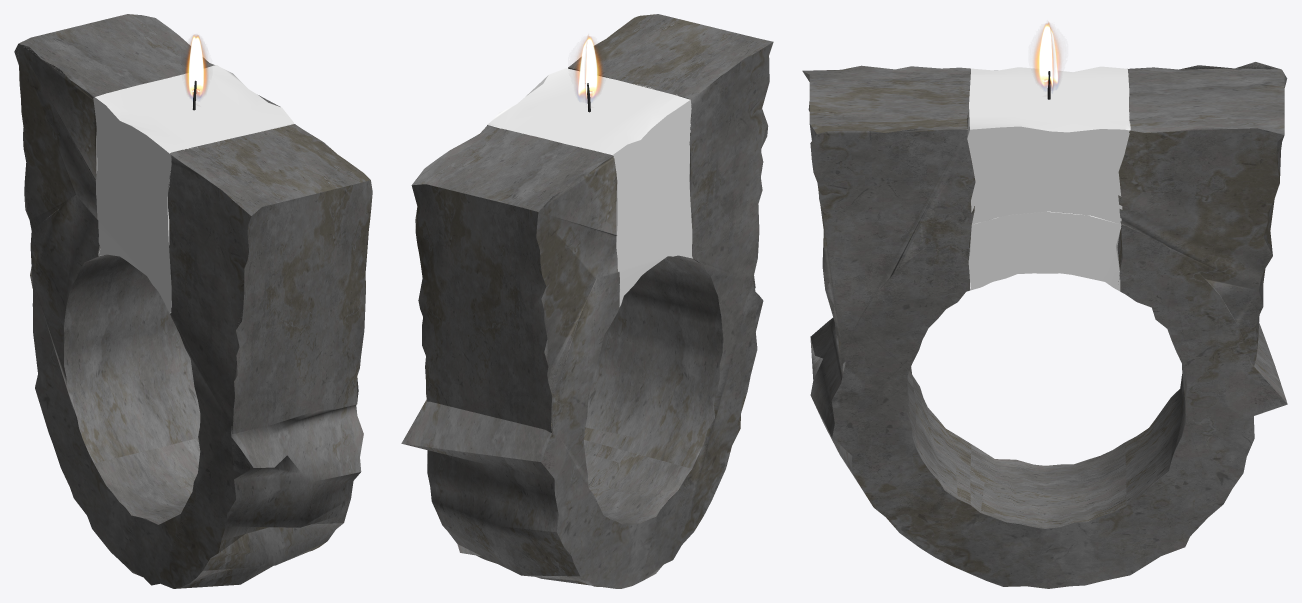
File: BAGUE_4.glb
3 views of the same model, side by side, from view 1: azimuth 30°, elevation 25°; view 2: azimuth 150°, elevation 25°; view 3: azimuth 270°, elevation 25° (orthographic). The views are drawn at different scales.
Visible parts, largest first — view 1: Cube.001, Cube.002, candles-01.003; view 2: Cube.001, Cube.002, candles-01.003; view 3: Cube.001, Cube.002, candles-01.003.
Boxes of the visible parts, box(x1,y1,x2,y2) form: Cube.001: box(14, 14, 372, 588); Cube.002: box(93, 65, 294, 313); candles-01.003: box(185, 35, 207, 99); Cube.001: box(401, 14, 773, 588); Cube.002: box(487, 68, 692, 307); candles-01.003: box(575, 35, 602, 102); Cube.001: box(802, 62, 1287, 588); Cube.002: box(967, 66, 1130, 291); candles-01.003: box(1034, 22, 1060, 90).
Size of the model in its own units: 0.7806 by 2.84 by 2.33.
Materials: 4 (2 with a texture image).
